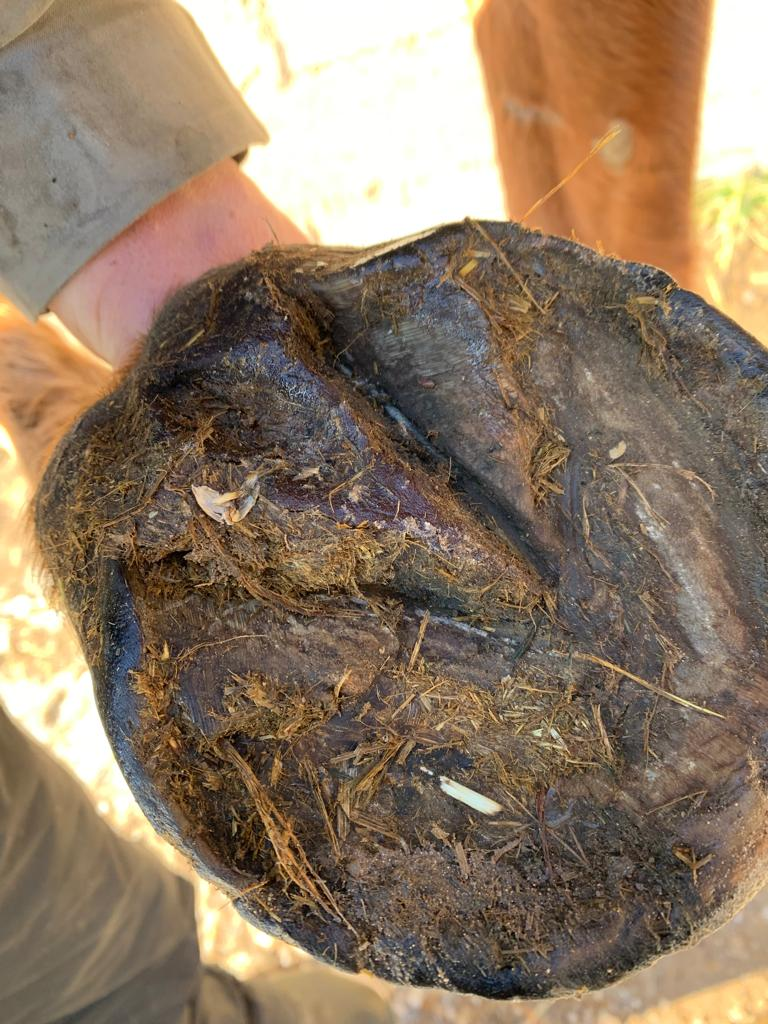horsesole: (102, 218, 768, 1001)
